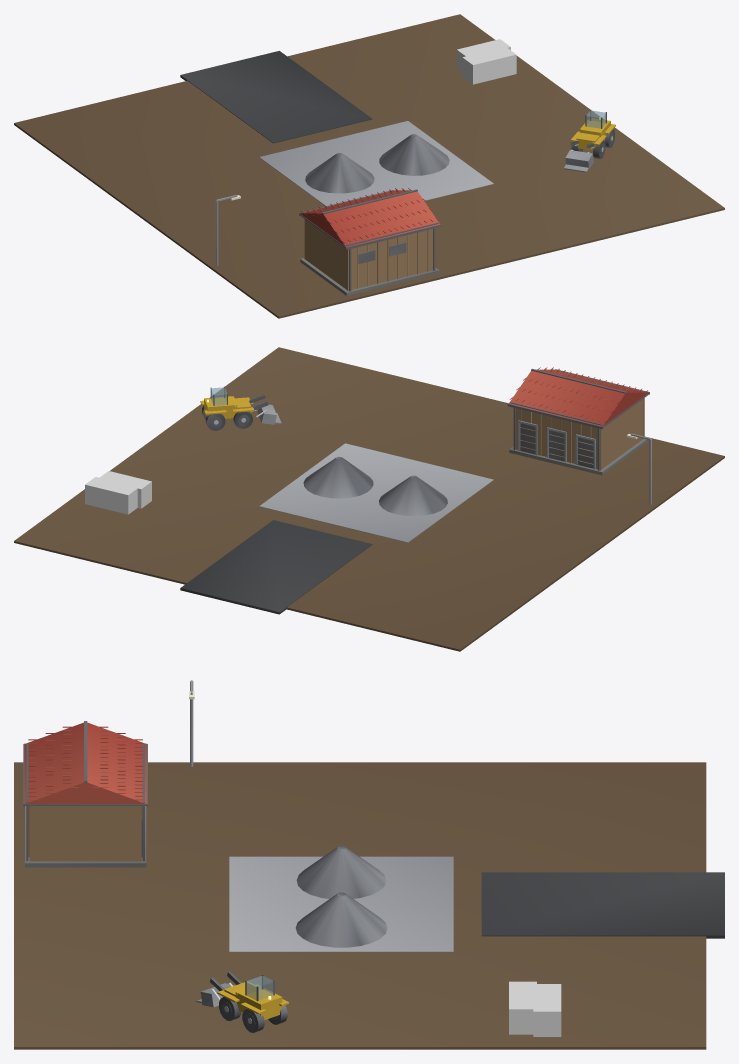
The model's file is Depot_P1.fbx.
The picture shows the model from 3 angles, top to bottom: view 1: azimuth 30°, elevation 25°; view 2: azimuth 150°, elevation 25°; view 3: azimuth 270°, elevation 25°; orthographic projection. The views are drawn at different scales.
Visible parts, largest first — view 1: Depot.Yard, Depot.Shed1, Depot.Containers, Depot.Pile0, Depot.Loader, Depot.Pile1; view 2: Depot.Yard, Depot.Shed1, Depot.Containers, Depot.Loader, Depot.Pile0, Depot.Pile1; view 3: Depot.Yard, Depot.Shed1, Depot.Pile0, Depot.Loader, Depot.Pile1, Depot.Containers.
Boxes of the visible parts, x1,y1,x2,y2 form: Depot.Yard: [14, 14, 724, 318]; Depot.Shed1: [299, 188, 440, 295]; Depot.Containers: [456, 39, 516, 84]; Depot.Pile0: [379, 134, 449, 175]; Depot.Loader: [564, 109, 615, 172]; Depot.Pile1: [305, 153, 374, 193]; Depot.Yard: [14, 347, 724, 651]; Depot.Shed1: [507, 367, 649, 475]; Depot.Containers: [85, 471, 151, 514]; Depot.Loader: [200, 386, 281, 430]; Depot.Pile0: [303, 456, 373, 498]; Depot.Pile1: [379, 475, 447, 516]; Depot.Yard: [14, 762, 724, 1049]; Depot.Shed1: [23, 721, 147, 867]; Depot.Pile0: [295, 892, 387, 947]; Depot.Loader: [196, 971, 289, 1032]; Depot.Pile1: [296, 846, 386, 898]; Depot.Containers: [509, 981, 561, 1036].
Bounding box in the file's own units: 7200 × 1055 × 7600.
